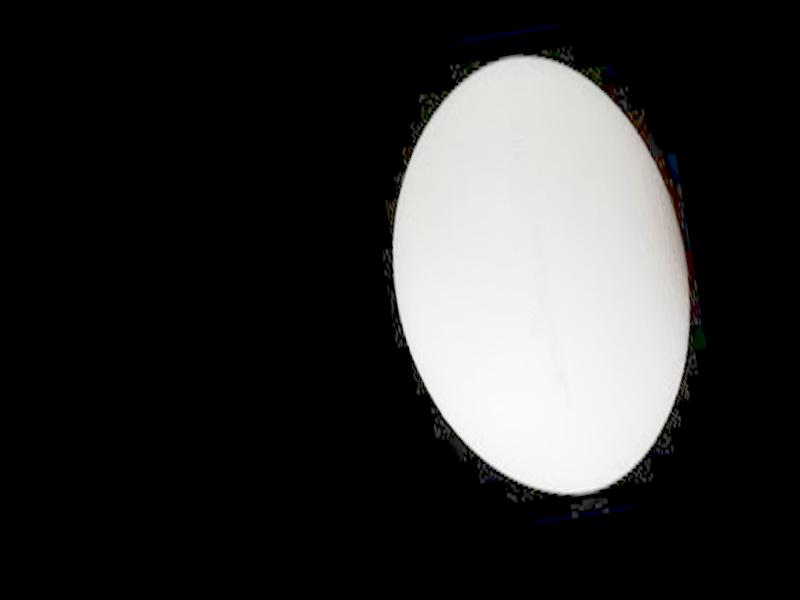Eggs: (364, 37, 720, 518)
